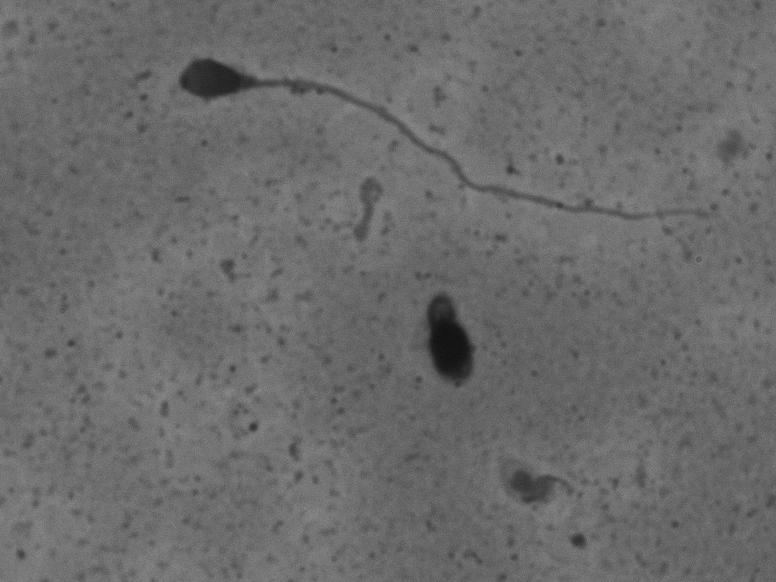Normal: (116, 52, 736, 240)
